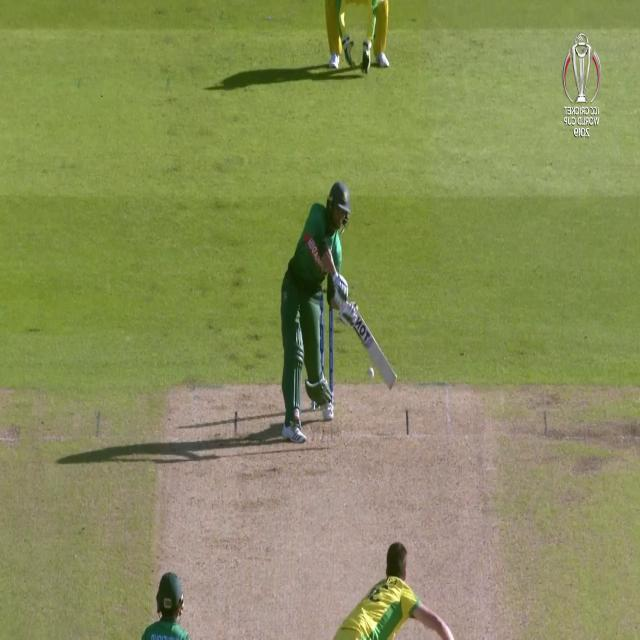ball: (366, 362, 375, 381)
